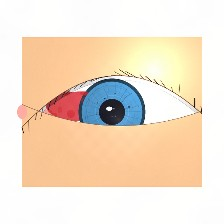hemorrhage_spot: (33, 68, 129, 145)
